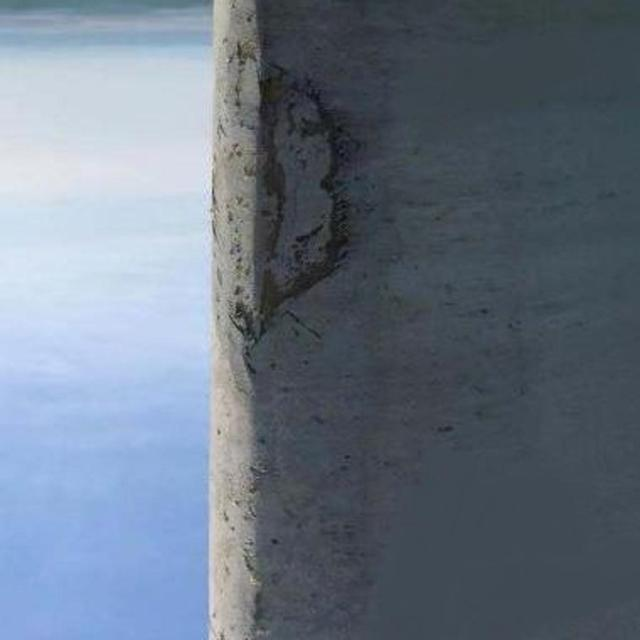corrosion: (212, 25, 368, 612)
